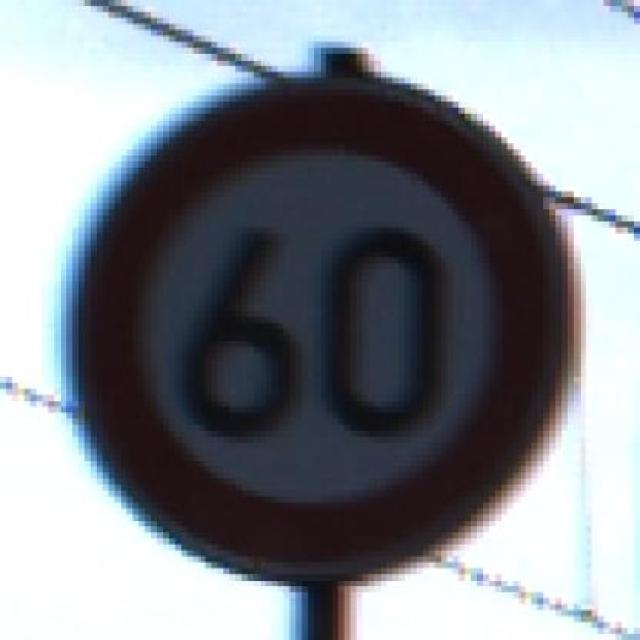forb_speed_over_60: (81, 85, 557, 569)
